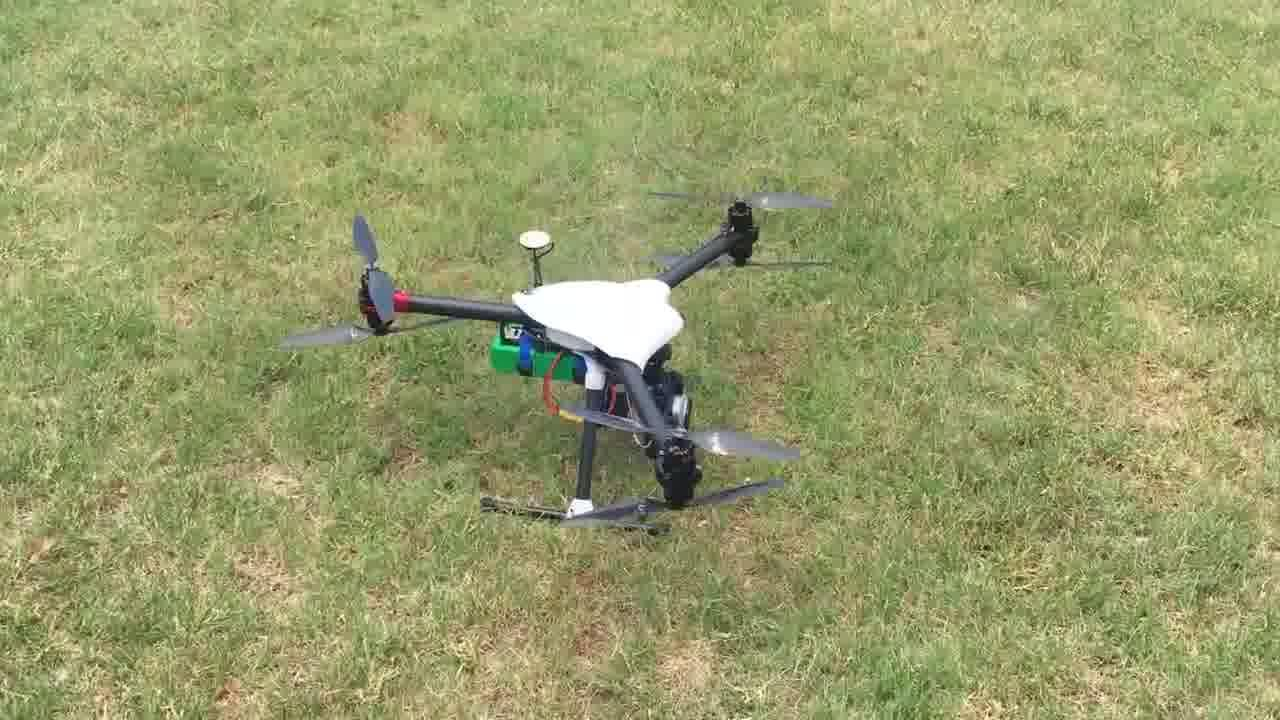drone: (285, 198, 825, 529)
